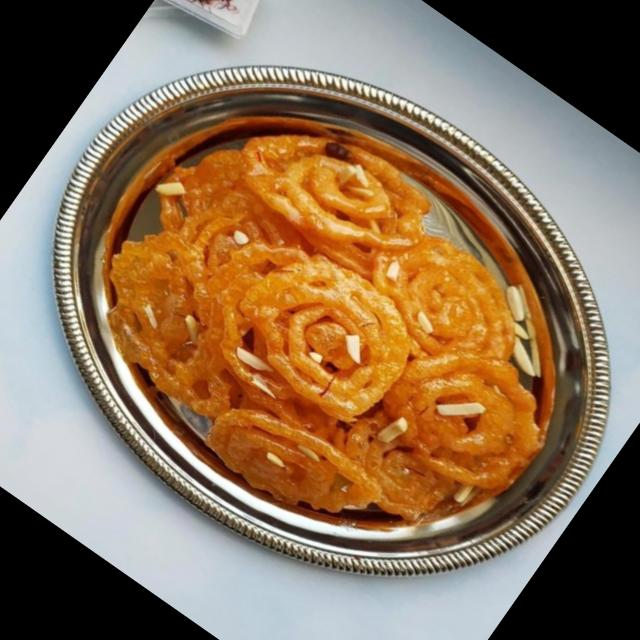jalebi: (39, 63, 598, 590)
